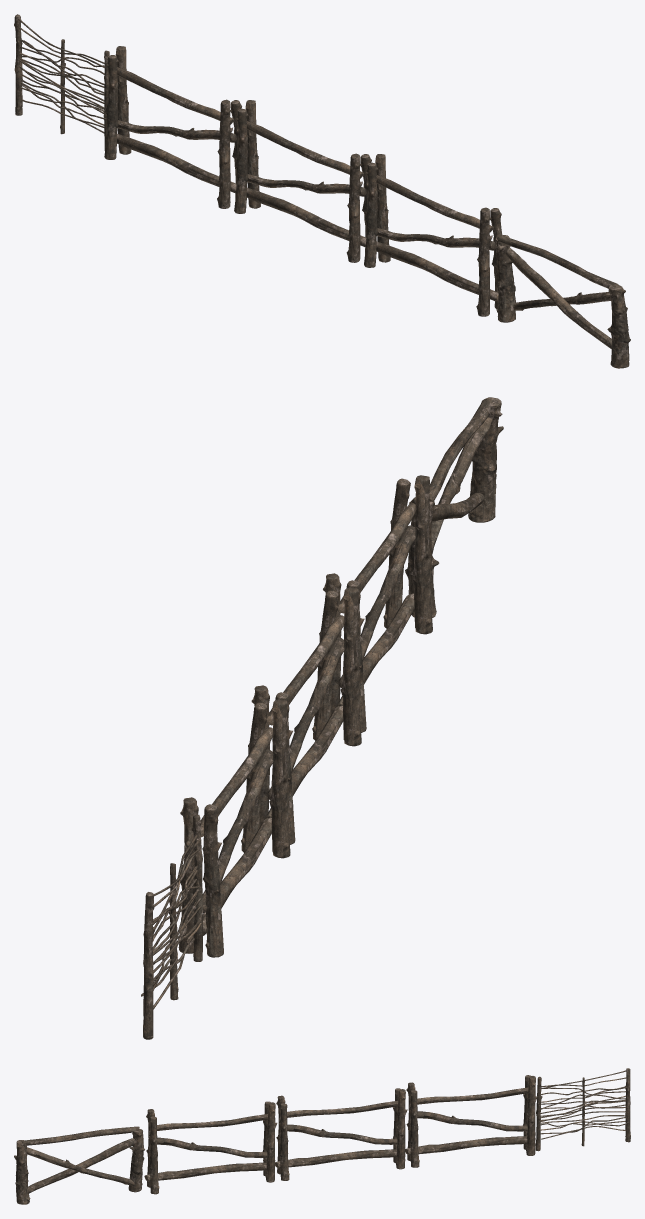
Rendered from SM_Fence_01b_Splines_31.fbx.
3 renders of one model, top to bottom at view 1: azimuth 30°, elevation 25°; view 2: azimuth 150°, elevation 25°; view 3: azimuth 270°, elevation 25°, orthographic. The views are drawn at different scales.
Visible parts, largest first — view 1: SM_Fence_01b_Splines_25_LOD0; view 2: SM_Fence_01b_Splines_25_LOD0; view 3: SM_Fence_01b_Splines_25_LOD0.
Part boxes in pixels (box(x1,y1,x2,y2)): SM_Fence_01b_Splines_25_LOD0: box(14, 14, 630, 368); SM_Fence_01b_Splines_25_LOD0: box(141, 397, 503, 1039); SM_Fence_01b_Splines_25_LOD0: box(14, 1068, 630, 1204).
Size of the model in its own units: 276 by 1018 by 148.
